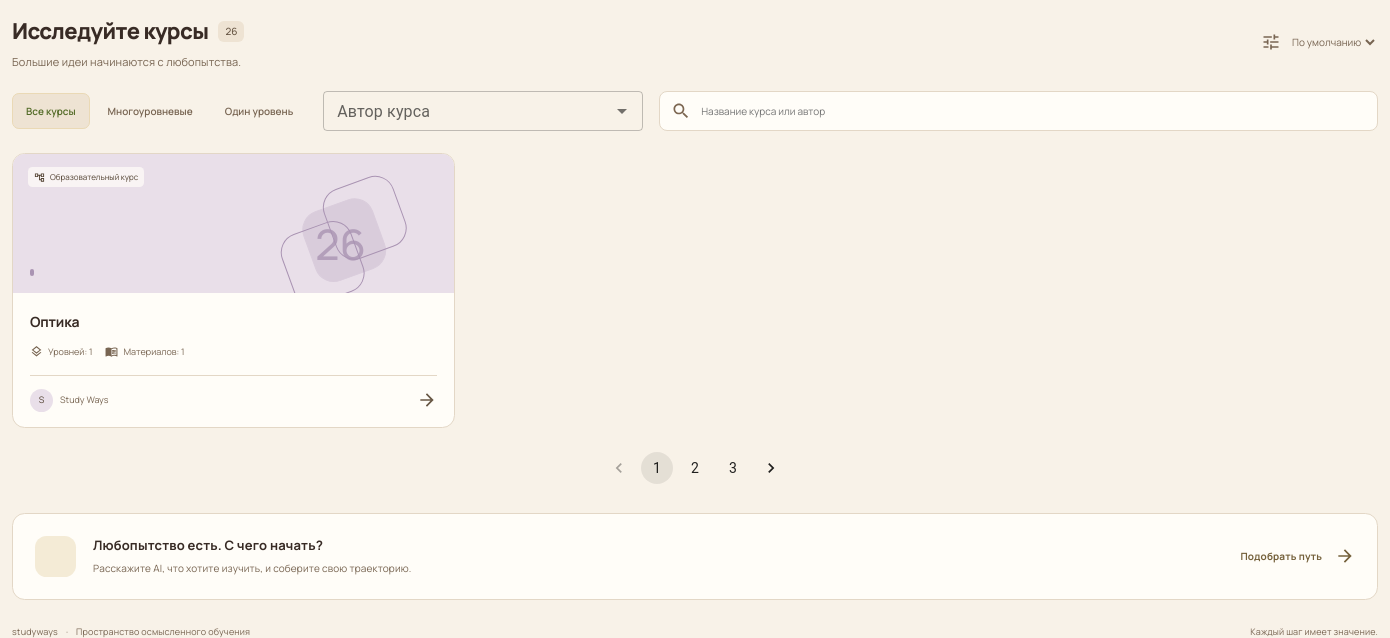
new pages hide old results while loading and a failed request can be retried with its filters
(page scrolled)
Click the button named "Go to page 2" at (695,468), box [679,452,711,484]
(page scrolled)
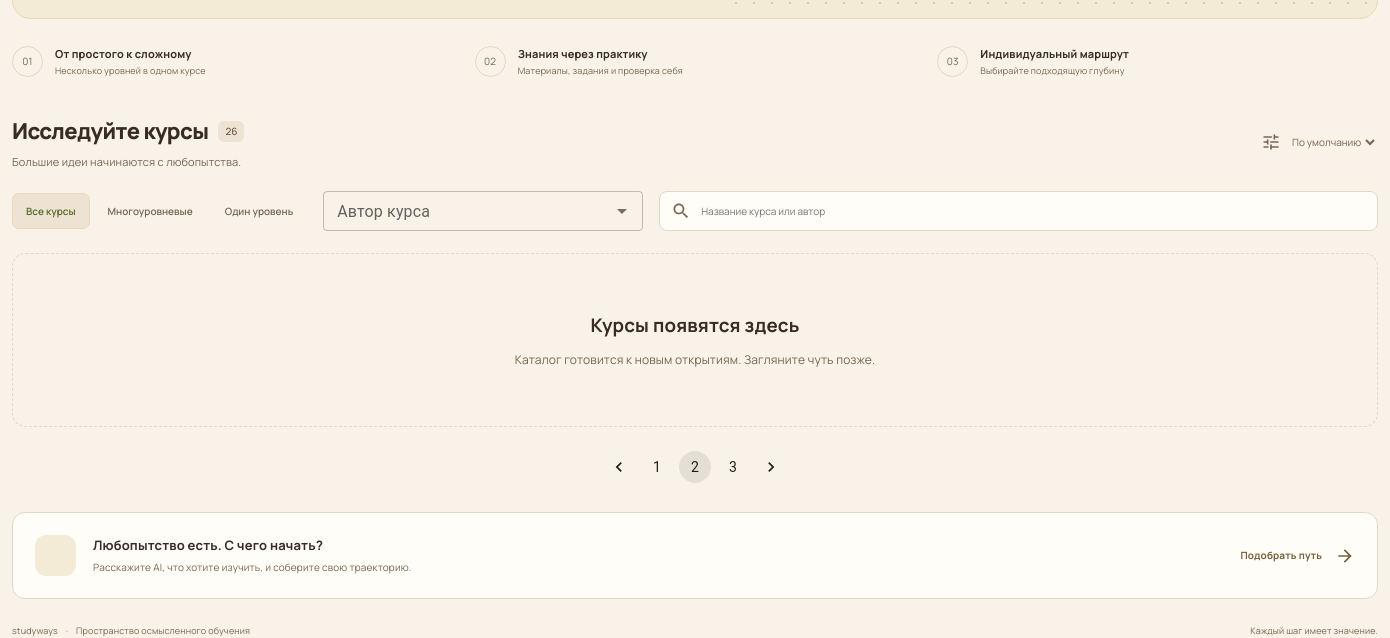
Check: the message named "Загрузка курсов" is shown, box [12,253,1378,427]
Check: the button named "Загрузка курсов" no longer shows "Оптика"
Click the button "Один уровень" at (259,211), box [211,193,307,229]
(page scrolled)
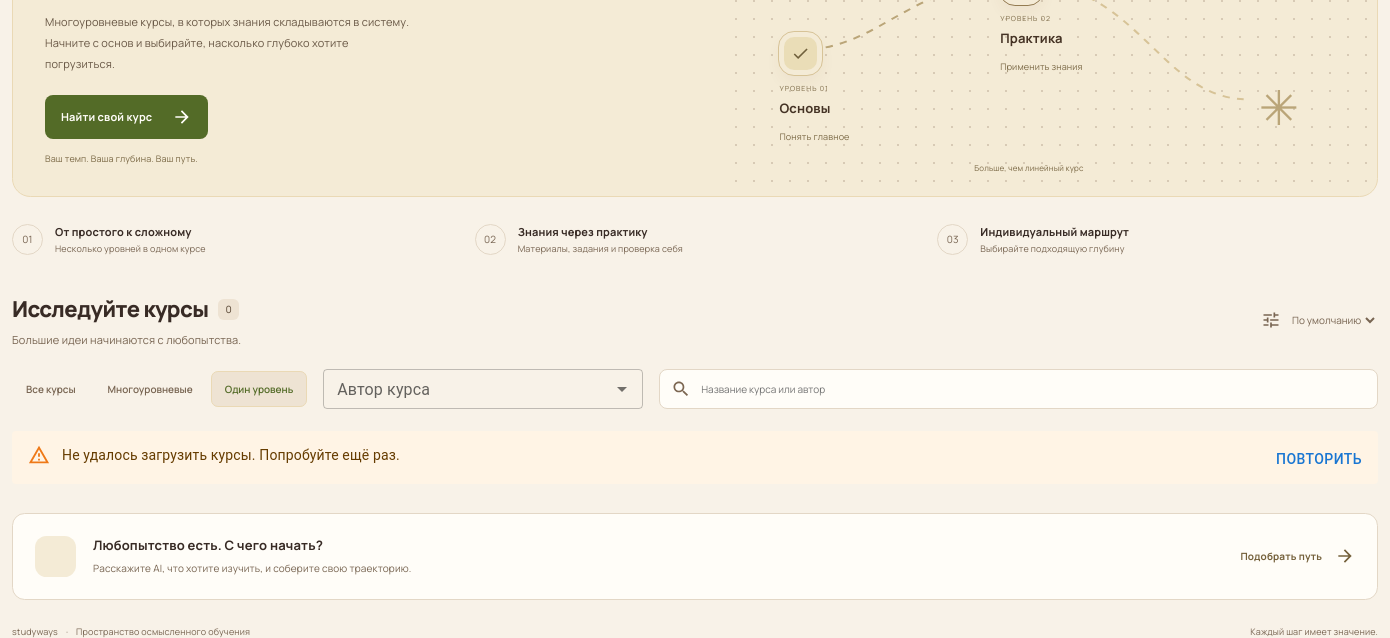
Check: the text "Не удалось загрузить курсы" is shown, box [62,447,400,463]
Click the button "Повторить" at (1319,459), box [1268,441,1370,478]
(page scrolled)
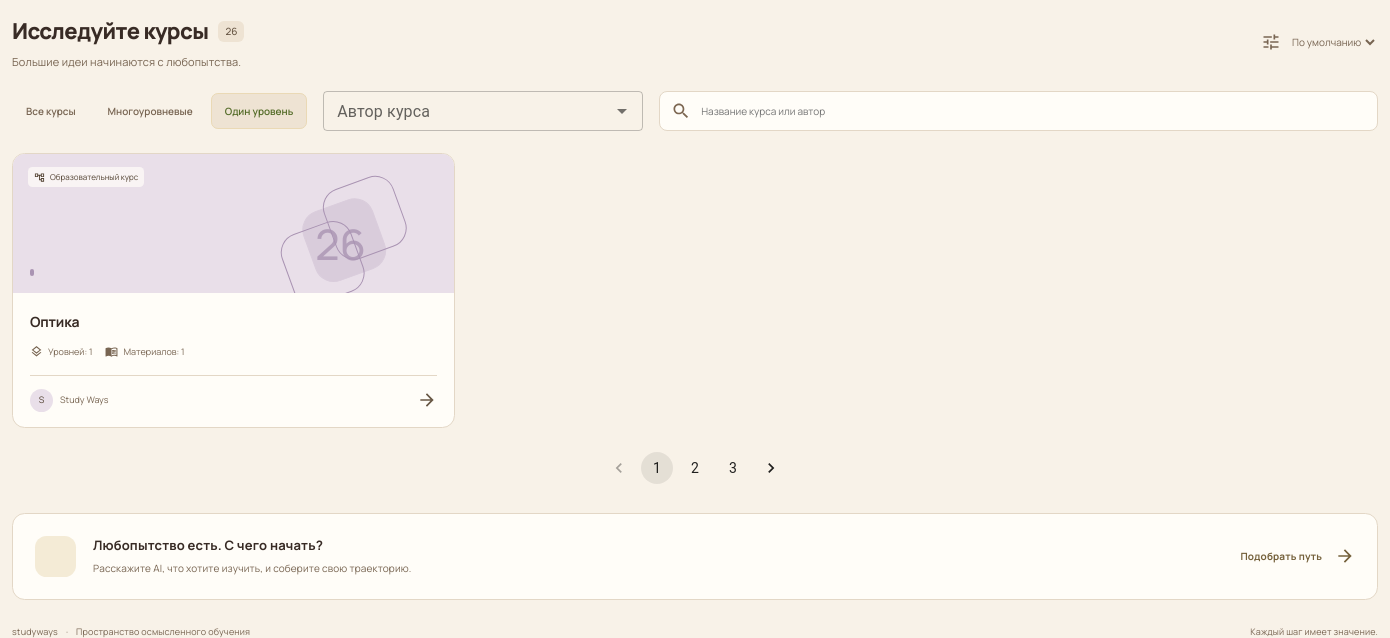
Check: the element with class "sw-course-grid" shows "Оптика", box [13,154,454,426]
